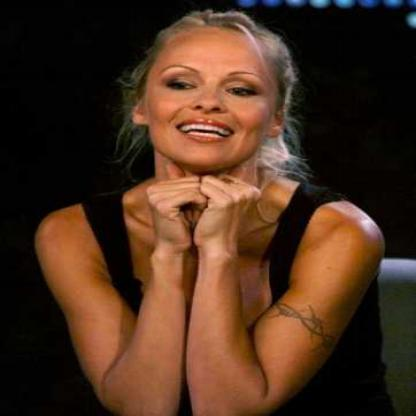face: (144, 15, 283, 172)
